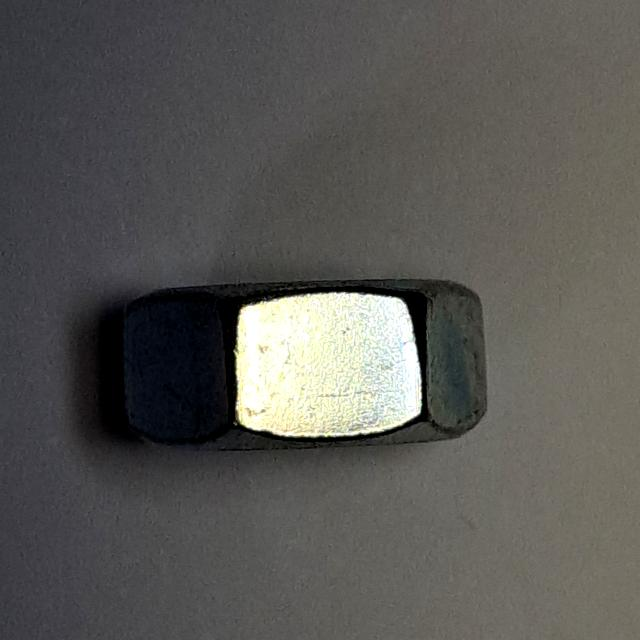Side_Excellent: (111, 264, 499, 464)
